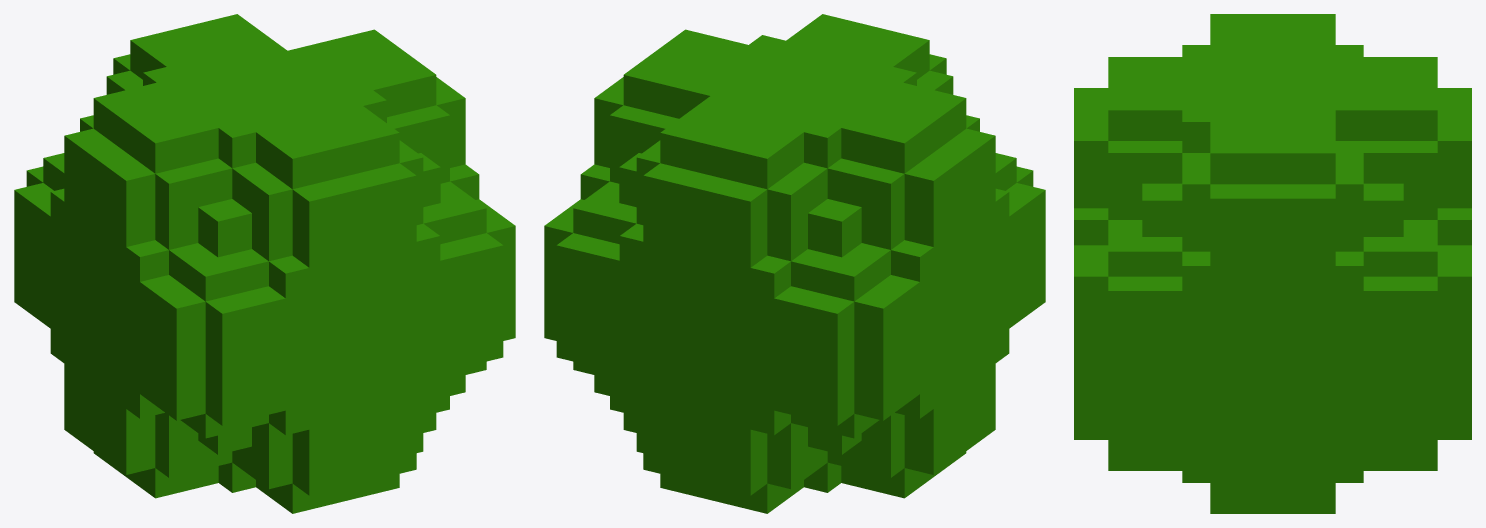
The model's file is Bush.FBX.
3 views of the same model, side by side, from view 1: azimuth 30°, elevation 25°; view 2: azimuth 150°, elevation 25°; view 3: azimuth 270°, elevation 25° (orthographic).
Parts seen in each view (by area): view 1: Box052; view 2: Box052; view 3: Box052.
Boxes of the visible parts, <box> form: Box052: <box>14,14,515,513</box>; Box052: <box>544,14,1045,513</box>; Box052: <box>1074,14,1471,513</box>.
Bounding box in the file's own units: 29.97 × 29.97 × 29.97.
